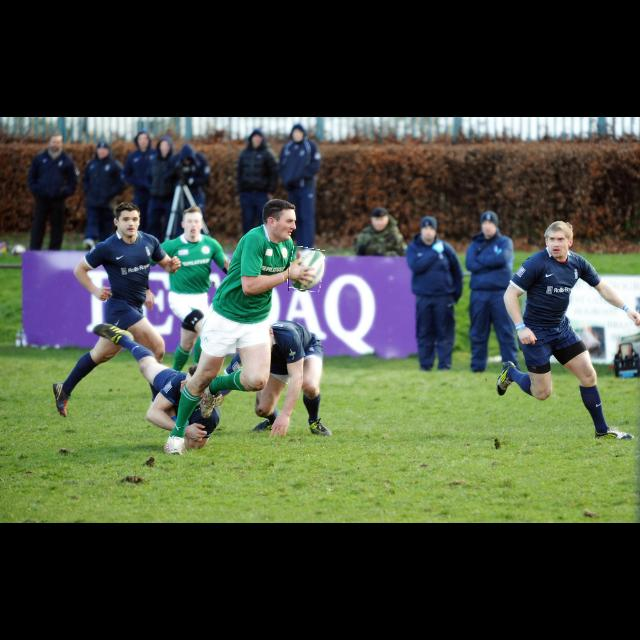Football: (288, 247, 324, 291)
